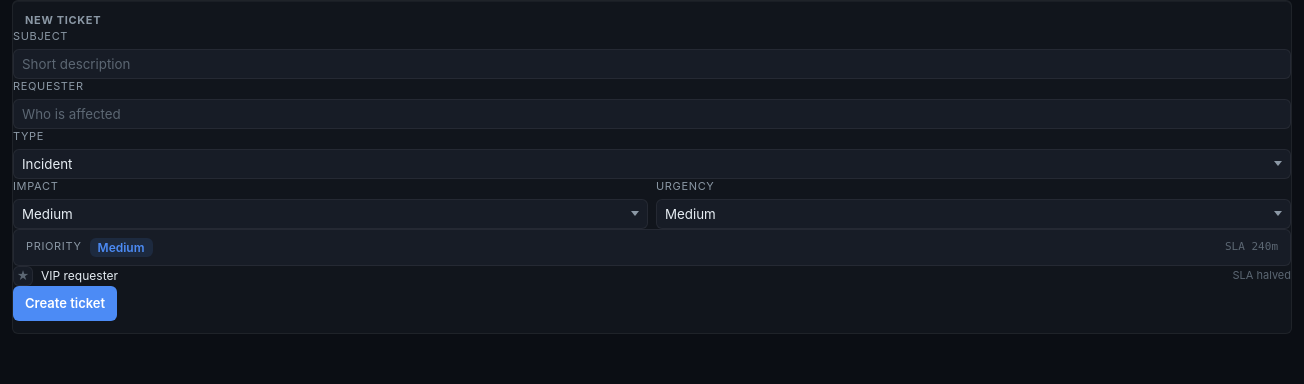
TicketForm › submits the body, resets, and shows a persistent error on failure
The width and height of the screenshot is (1304, 384).
Type "Dana" into the field labelled "Requester" at (652, 114), box [13,99,1291,129]
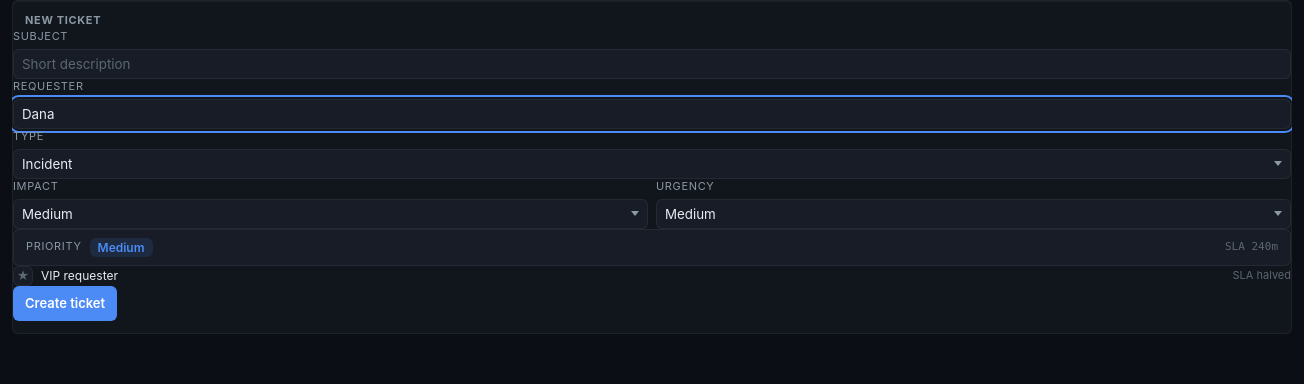
Click the button "Create ticket" at (65, 304), box [13,286,117,321]
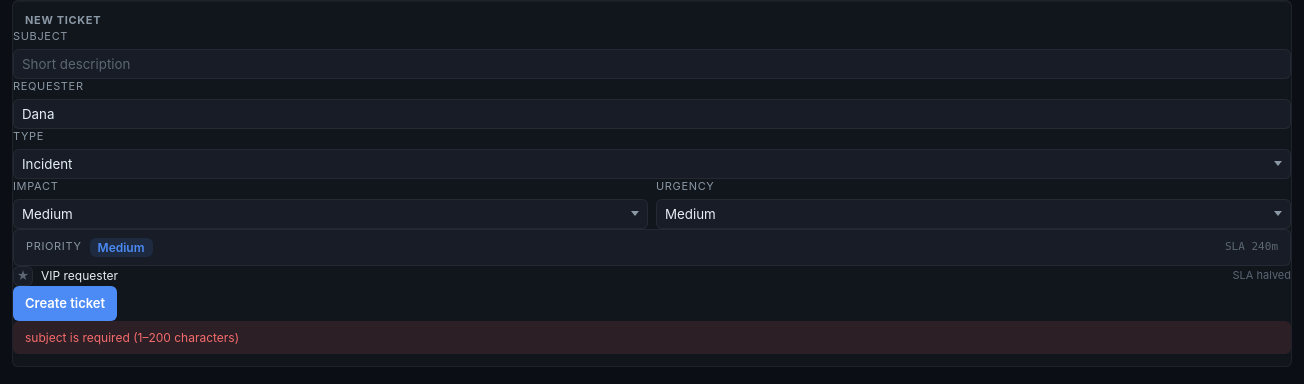
Expected: the message shows "subject is required", [25,330,239,345]
Type "VPN down" into the field labelled "Subject" at (652, 64), box [13,49,1291,79]
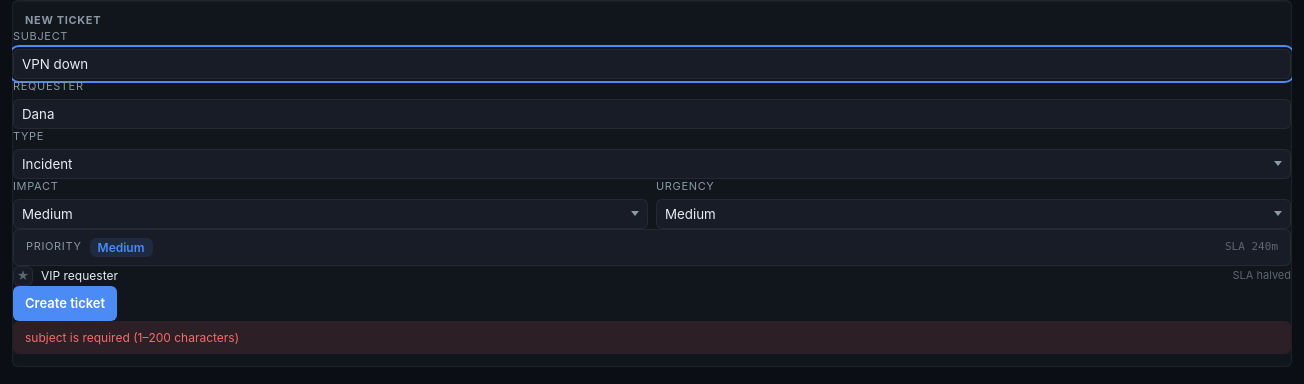
Click the button "Create ticket" at (65, 304), box [13,286,117,321]
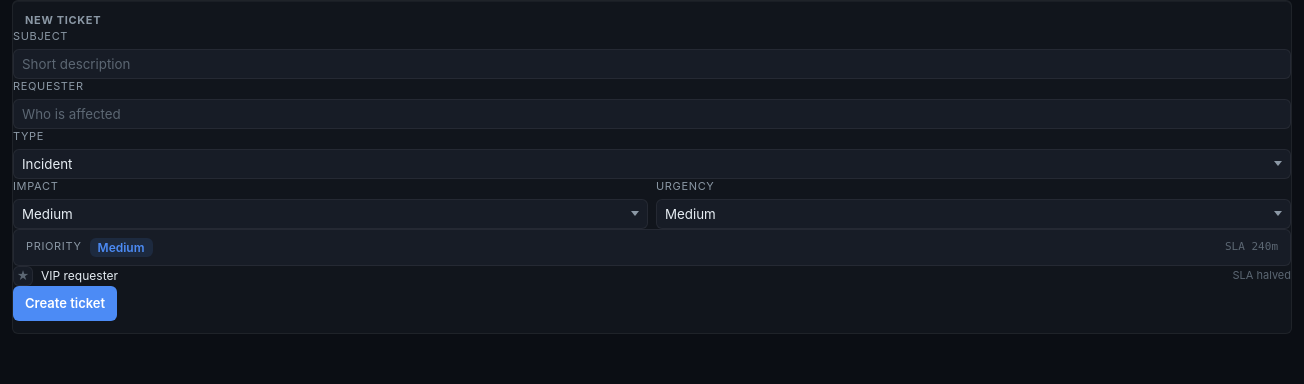
Expected: the field labelled "Subject" is empty, [13,49,1291,79]
Expected: the message "subject is required (1–200 characters)" is gone
